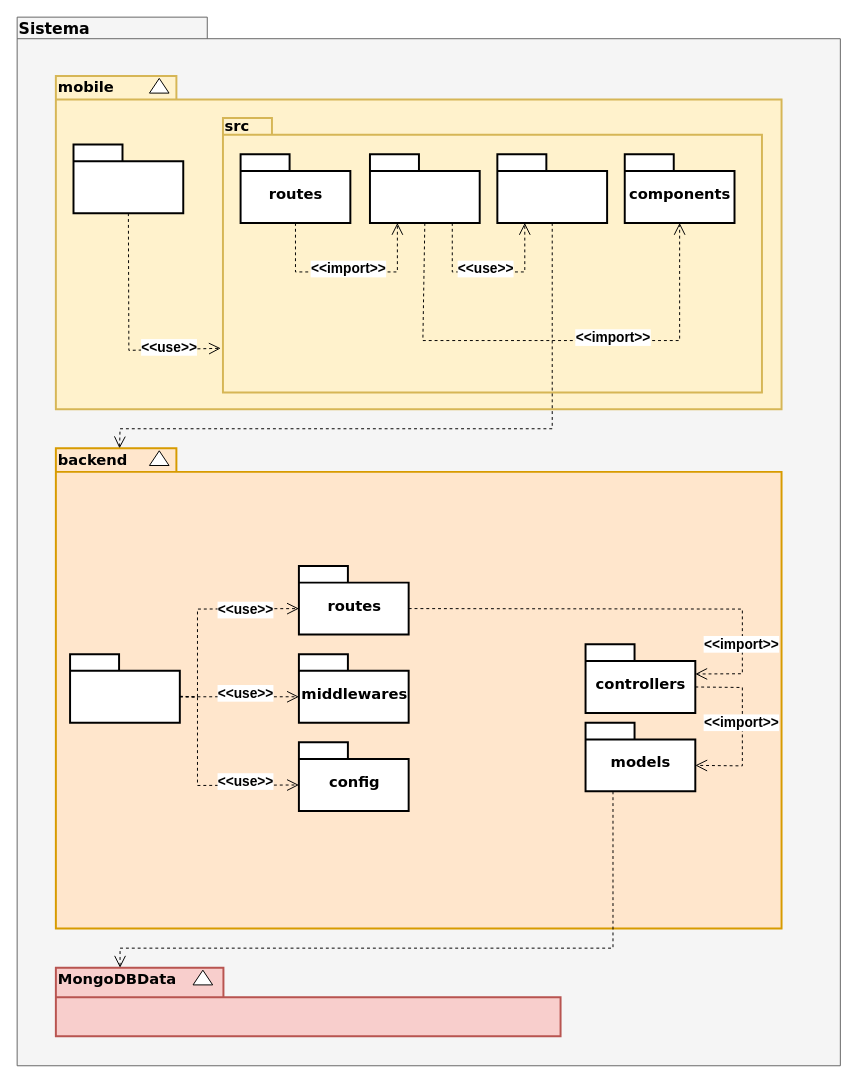
The diagram is 858 pixels wide and 1083 high, and some of its shapes have lost their labels. The shapes that lost their labels are listed below. From the top down, each one's box as (x1, y1, x2, y2) in pixels, then its label:
(72, 143, 184, 214): context
(368, 153, 480, 223): pages
(496, 153, 608, 223): services
(69, 653, 180, 723): index
